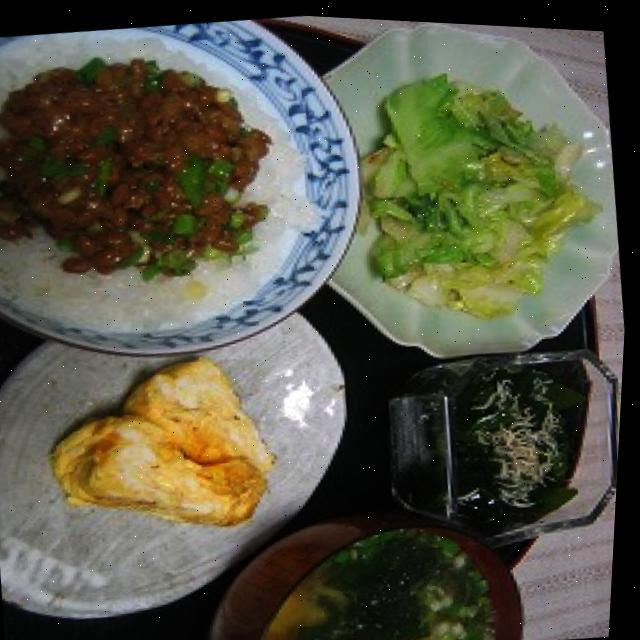蔬菜料理: (347, 45, 639, 362)
